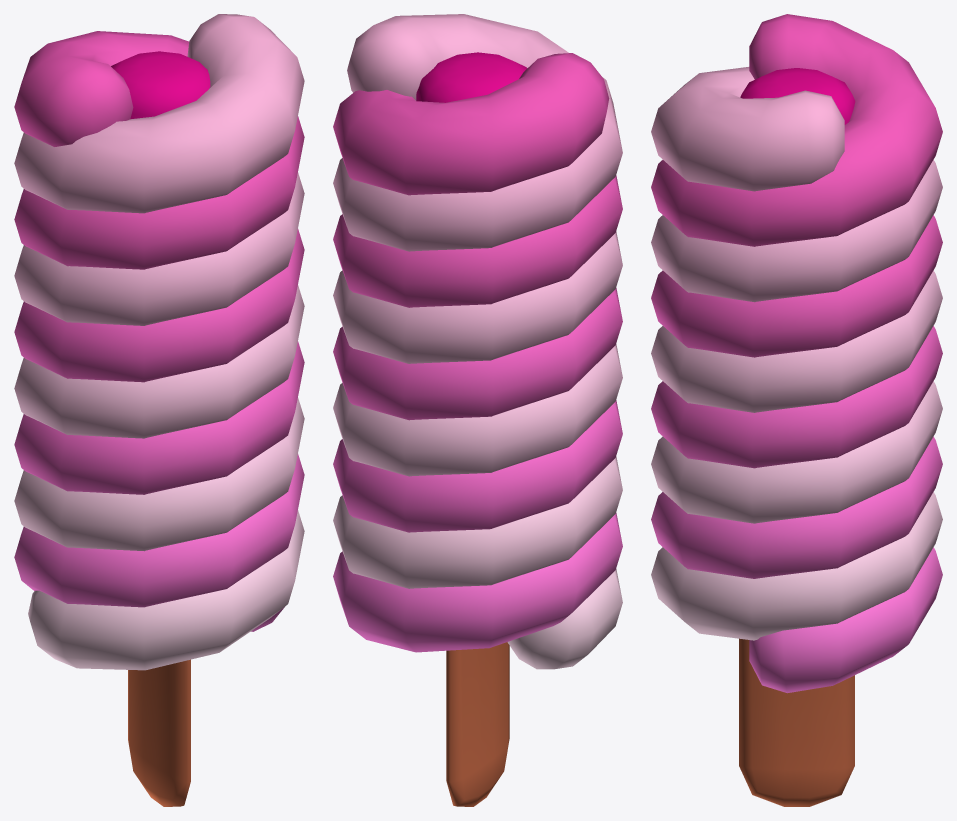
File: Ice_Cream_V1_00.fbx
The picture shows the model from 3 angles, left to right: view 1: azimuth 30°, elevation 25°; view 2: azimuth 150°, elevation 25°; view 3: azimuth 270°, elevation 25°; orthographic projection.
Visible parts, largest first — view 1: Ice_Cream_V1_00; view 2: Ice_Cream_V1_00; view 3: Ice_Cream_V1_00.
Part boxes in pixels (x1,y1,x2,y2): Ice_Cream_V1_00: (14, 14, 304, 806); Ice_Cream_V1_00: (333, 14, 622, 806); Ice_Cream_V1_00: (651, 14, 942, 806).
Size of the model in its own units: 15.4 by 45.71 by 16.13.
